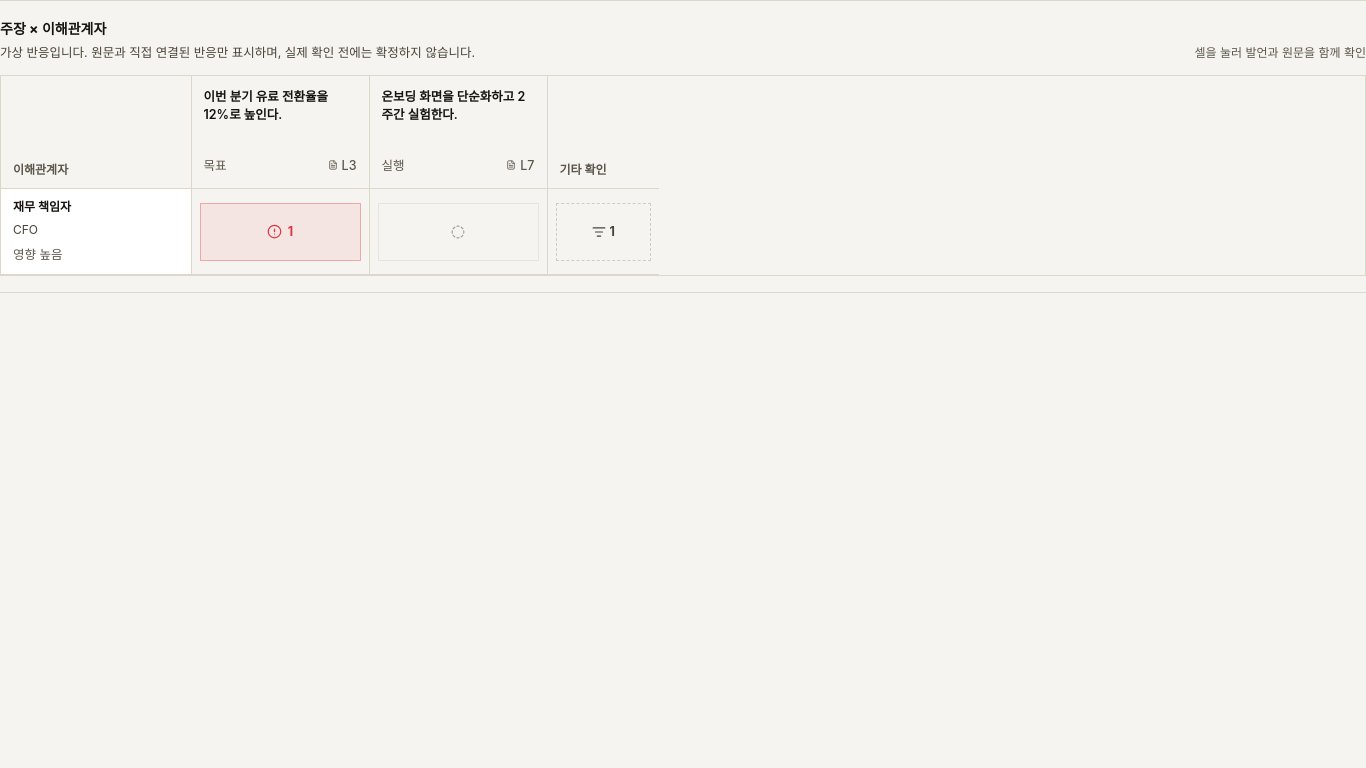
it: StakeholderClaimMatrix › reveals the linked statement and opens the exact source line
The width and height of the screenshot is (1366, 768).
Click the button named "재무 책임자: 반론·위험 1": click(280, 232) [200,203,360,261]
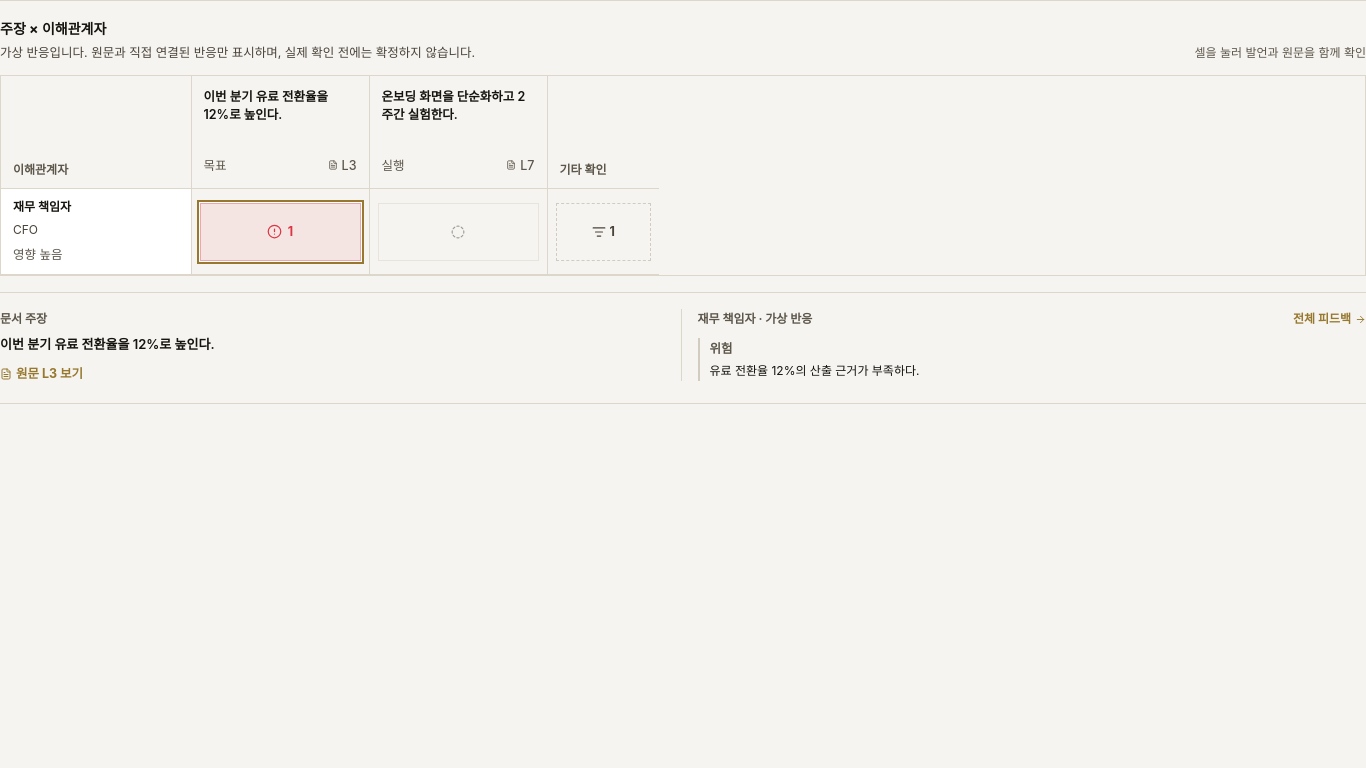
Now the text "유료 전환율 12%의 산출 근거가 부족하다." is shown, box [710,363,919,378]
Click the button "원문 L3 보기": click(42, 374) [0,363,83,384]
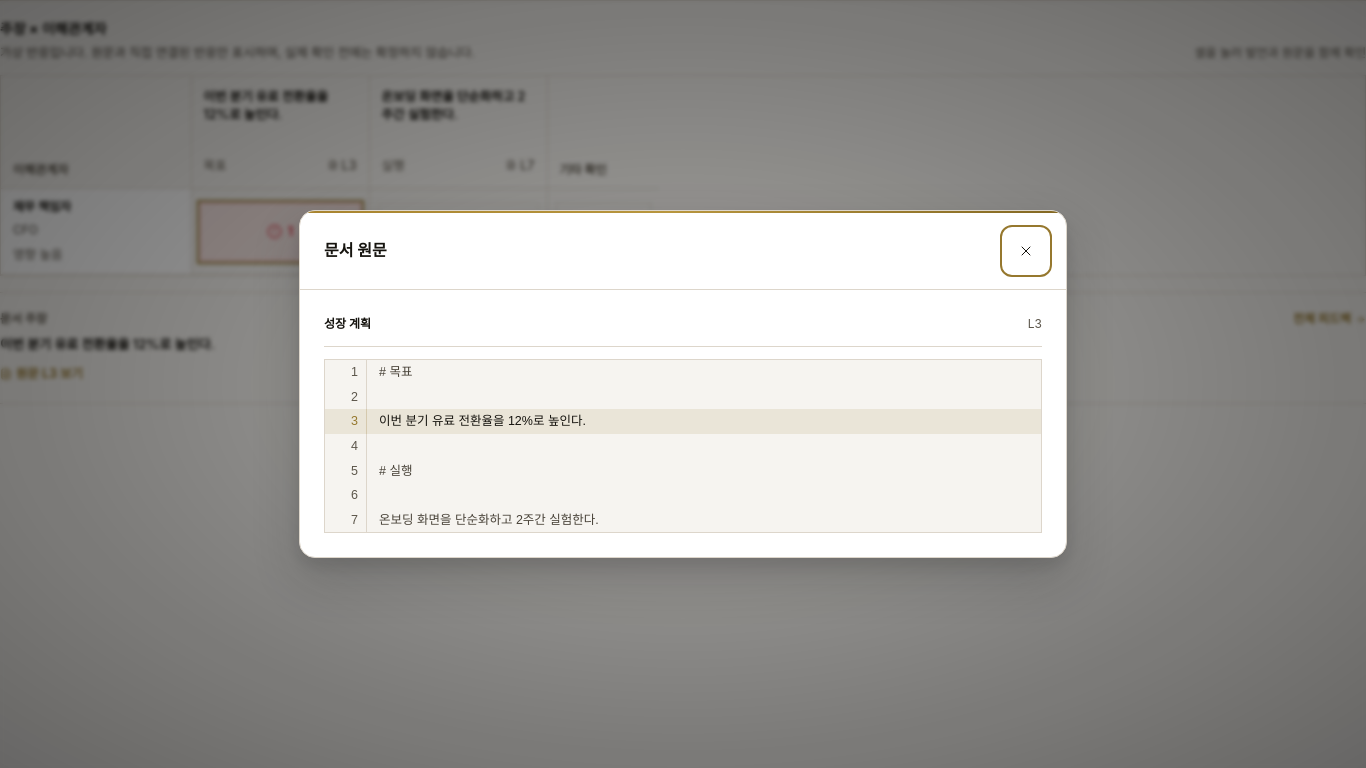
Now the dialog shows "성장 계획", box [324,316,371,331]
Now the element showing "3 이번 분기 유료 전환율을 12%로 높인다." is shown, box [325,409,1041,434]
